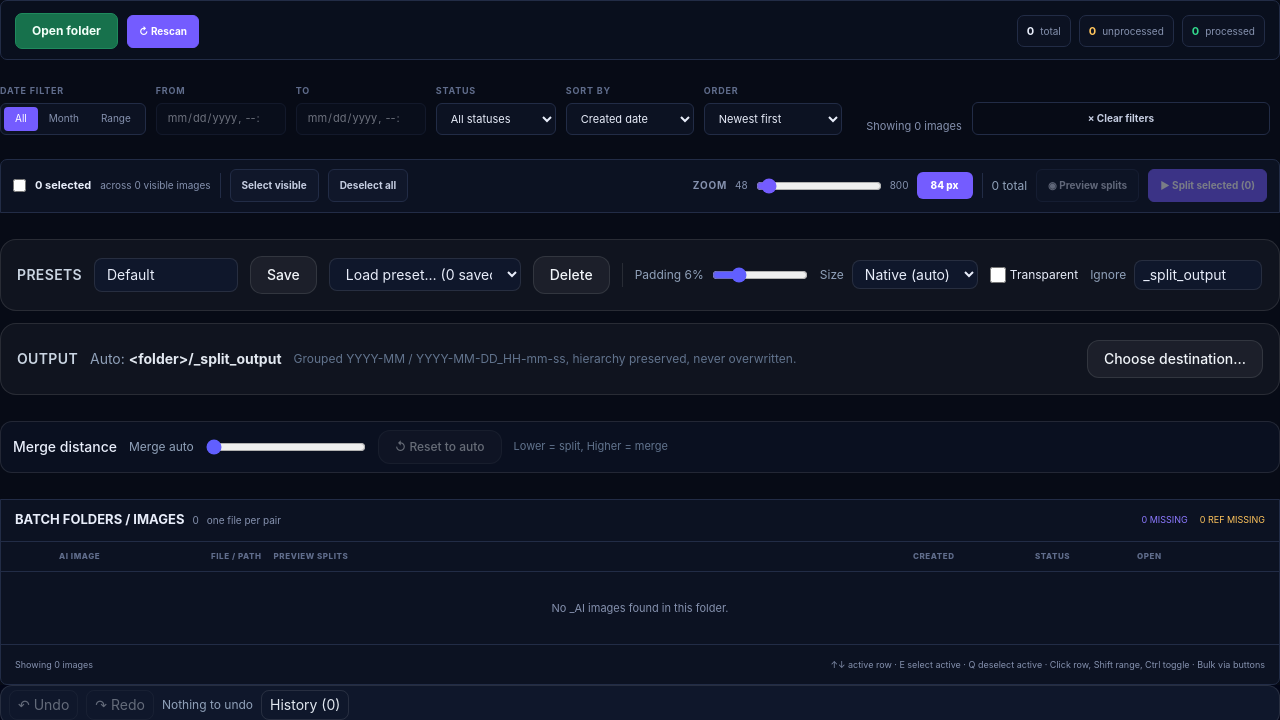
Batch V2 selection: active row separate from checked › Ctrl/Alt/Meta-click toggles one row with Shift precedence
What coordinates should you click on to do the following:
click the button with test id "batch-open-folder"
I would click on:
 (66, 31)
Its box is [15,13,118,49].
(page scrolled)
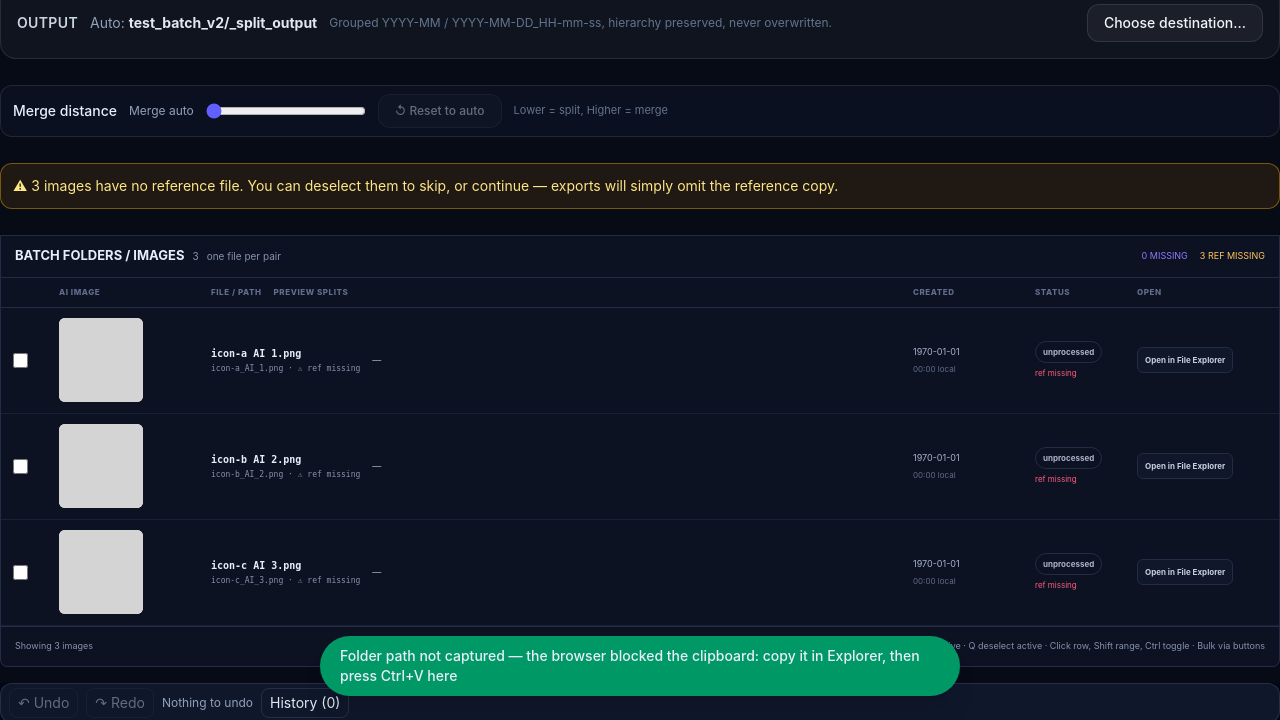
What coordinates should you click on to do the following:
click the list item with test id "batch-row-icon-a_AI_1.png"
I would click on:
 (640, 360)
Its box is [1,308,1279,414].
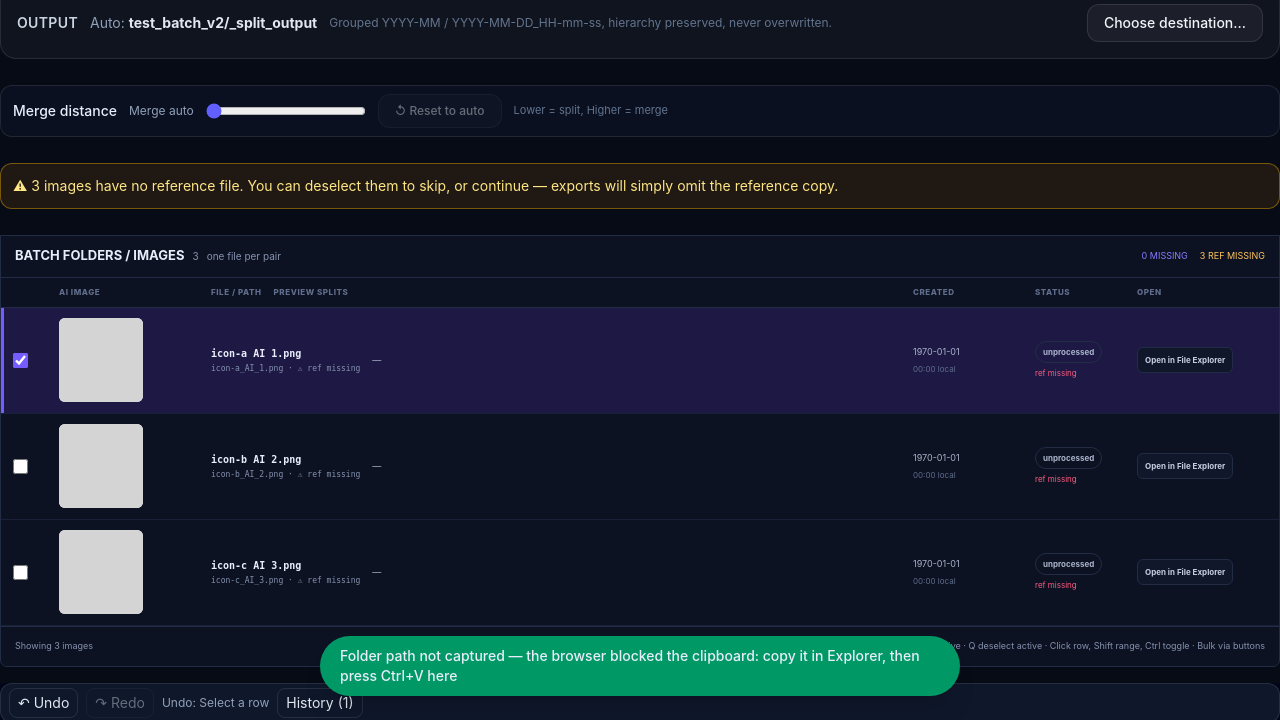
What coordinates should you click on to do the following:
click the list item with test id "batch-row-icon-c_AI_3.png"
I would click on:
 (640, 572)
Its box is [1,520,1279,626].
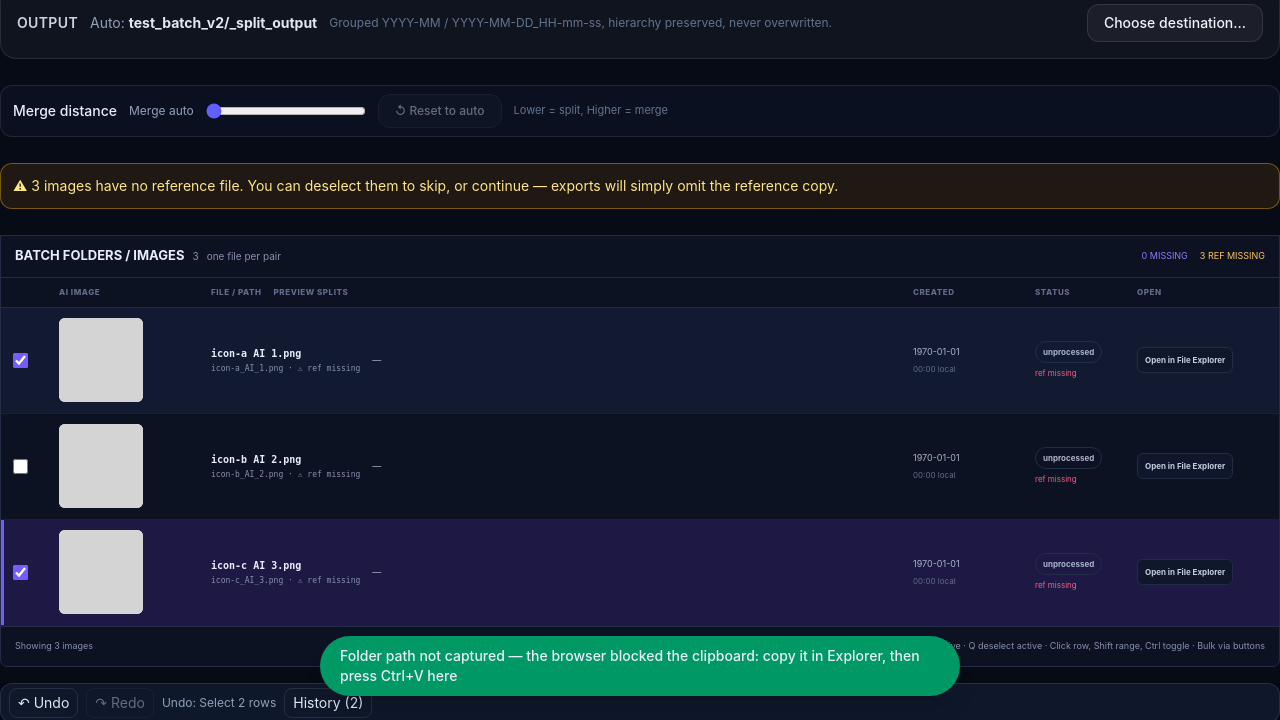
Check: the checkbox with test id "row-select-icon-a_AI_1.png" is checked, box [13,352,28,368]
Check: the checkbox with test id "row-select-icon-c_AI_3.png" is checked, box [13,564,28,580]
What coordinates should you click on to do the following:
click the list item with test id "batch-row-icon-a_AI_1.png"
I would click on:
 (640, 360)
Its box is [1,308,1279,414].
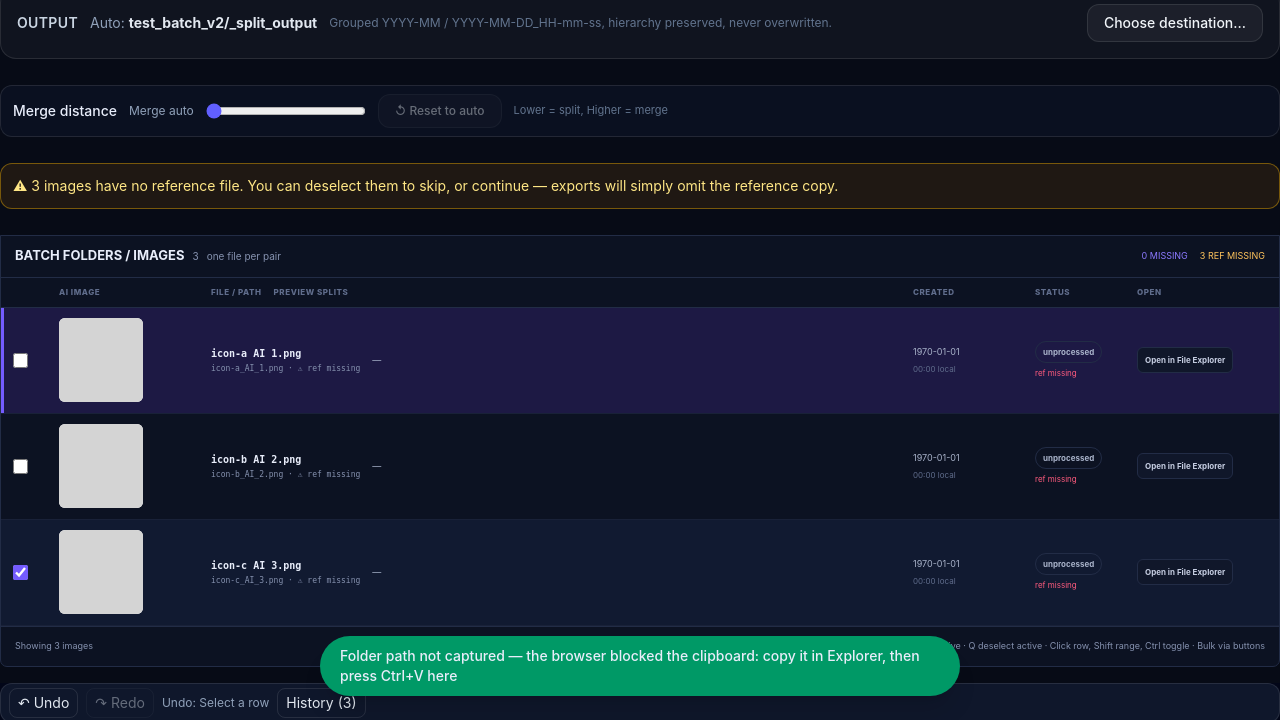
Check: the checkbox with test id "row-select-icon-a_AI_1.png" is not checked, box [13,352,28,368]
What coordinates should you click on to do the following:
click the list item with test id "batch-row-icon-a_AI_1.png"
I would click on:
 (640, 360)
Its box is [1,308,1279,414].
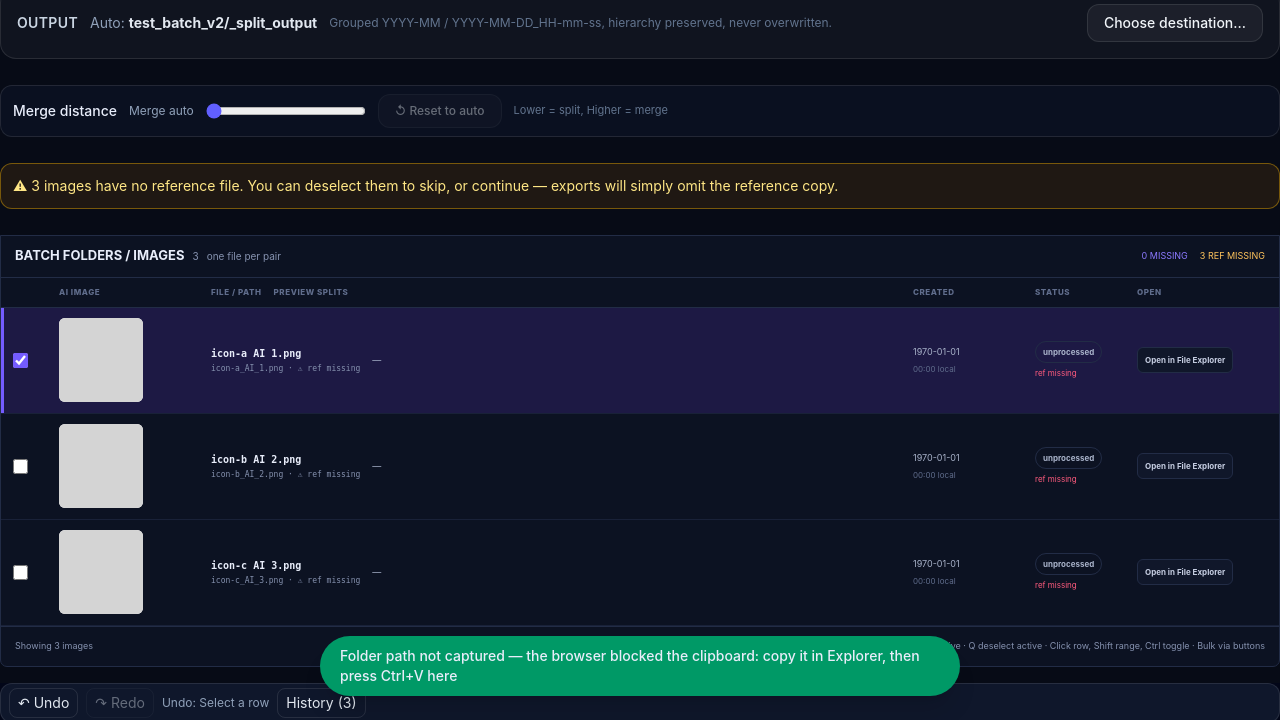
What coordinates should you click on to do the following:
click the list item with test id "batch-row-icon-c_AI_3.png"
I would click on:
 (640, 572)
Its box is [1,520,1279,626].
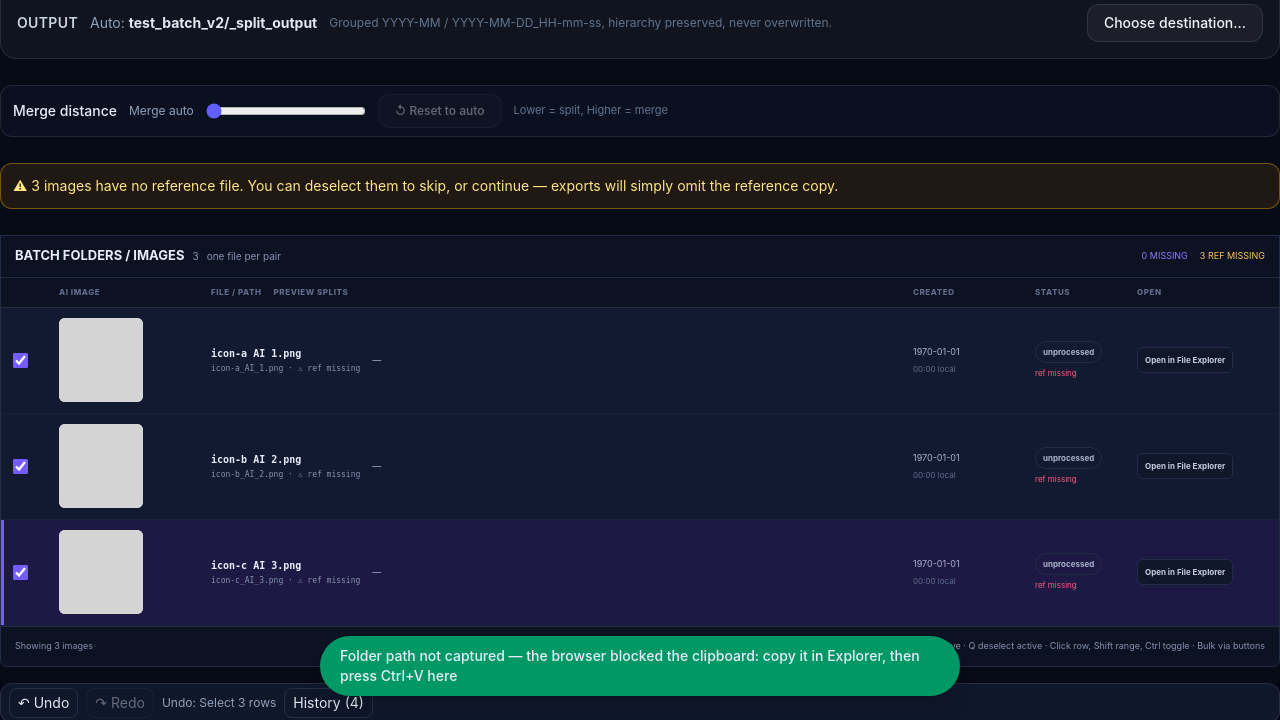
Check: the checkbox with test id "row-select-icon-a_AI_1.png" is checked, box [13,352,28,368]
Check: the checkbox with test id "row-select-icon-c_AI_3.png" is checked, box [13,564,28,580]
Check: the checkbox with test id "row-select-icon-b_AI_2.png" is checked, box [13,458,28,474]
